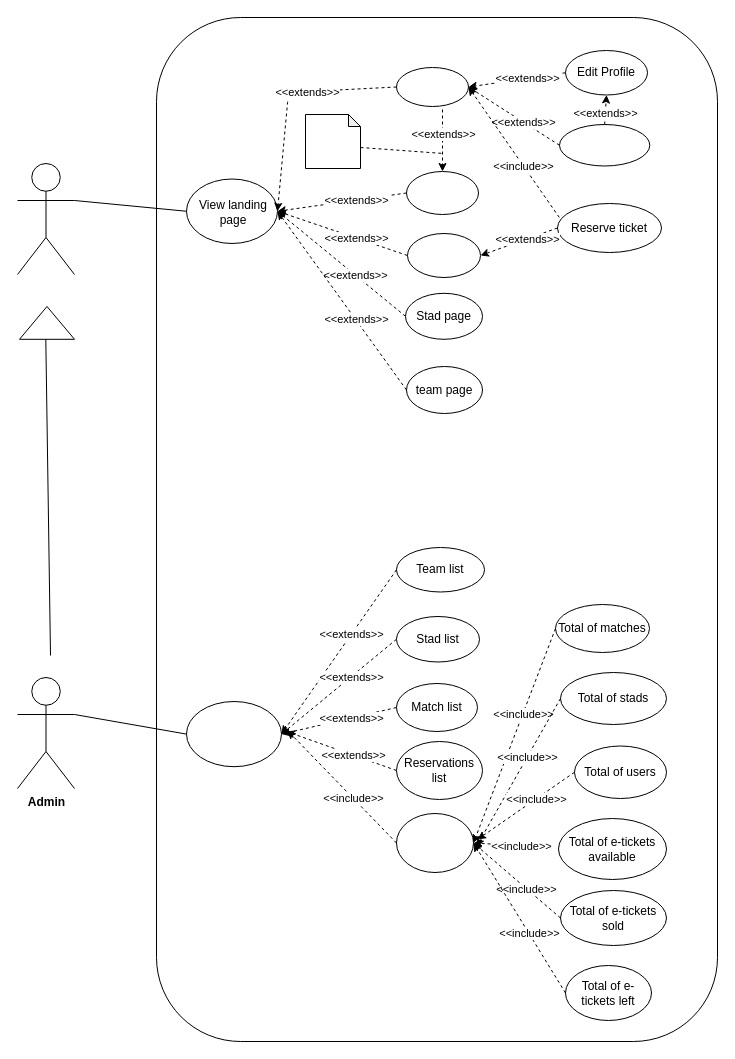
Image size: 735x1059. Some labels were removed from this diagram. Here are the shapes that lost their labels. From the top down, the centre of each, then its label:
At (432,86): "Login".
At (332,141): "if he don't have acc".
At (604,145): "Delete acc".
At (442,192): "Signup".
At (45,218): "User".
At (443,255): "Match page".
At (234,733): "Dashboard".
At (435,842): "statistics".
